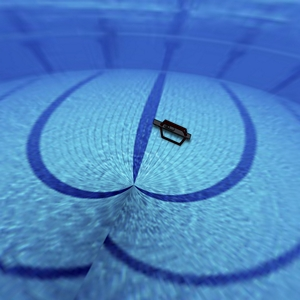submarine: (135, 102, 201, 160)
